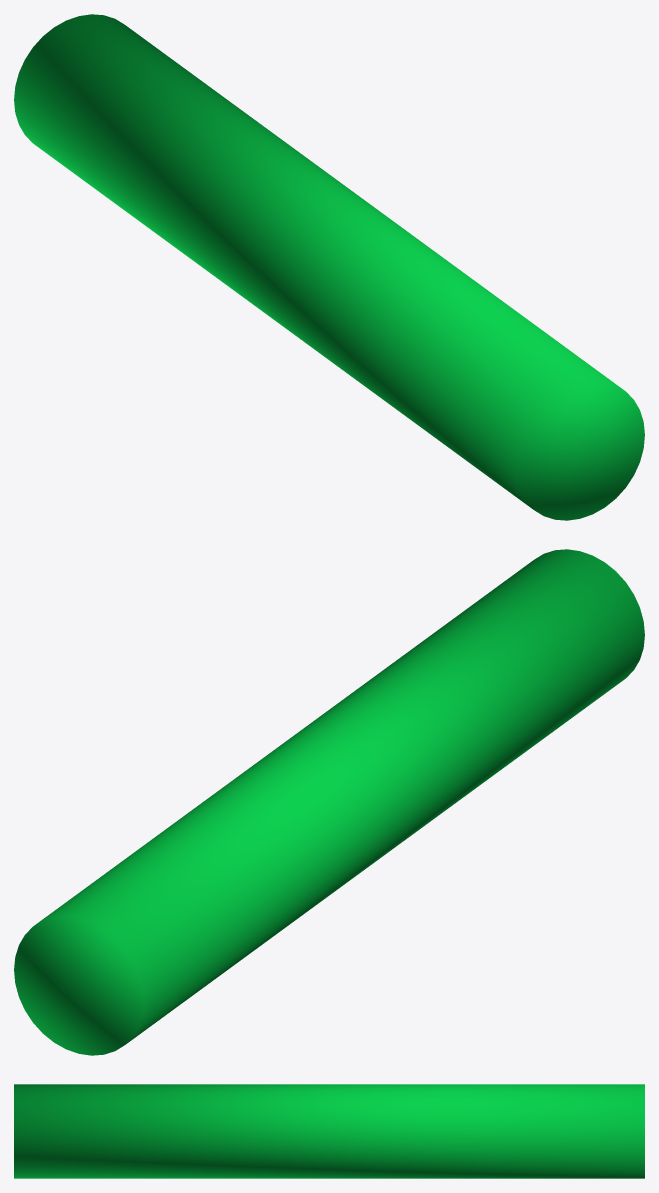
The model's file is laser_shot.fbx.
3 views of the same model, one above another, from view 1: azimuth 30°, elevation 25°; view 2: azimuth 150°, elevation 25°; view 3: azimuth 270°, elevation 25° (orthographic). The views are drawn at different scales.
Parts seen in each view (by area): view 1: Cylinder; view 2: Cylinder; view 3: Cylinder.
Part boxes in pixels (<box>): Cylinder: <box>14,14,644,520</box>; Cylinder: <box>14,549,644,1055</box>; Cylinder: <box>14,1084,644,1178</box>.
Bounding box in the file's own units: 0.4333 × 0.4333 × 2.89.
